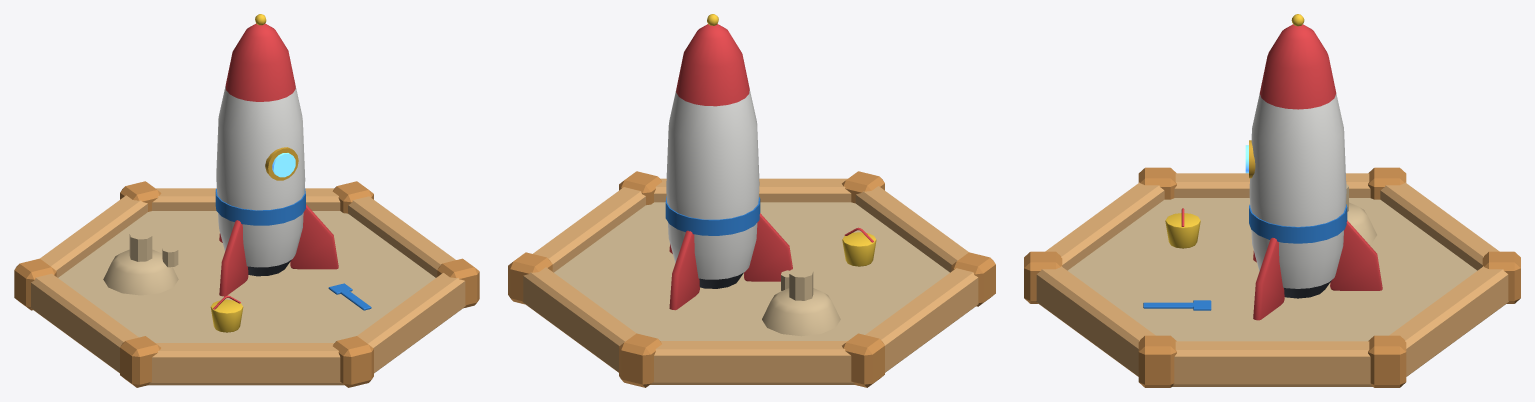
File: caixa_areia_foguete.glb
3 renders of one model, left to right at view 1: azimuth 30°, elevation 25°; view 2: azimuth 150°, elevation 25°; view 3: azimuth 270°, elevation 25°, orthographic. The views are drawn at different scales.
Visible parts, largest first — view 1: caixa_areia_foguete, escotilha; view 2: caixa_areia_foguete; view 3: caixa_areia_foguete.
Boxes of the visible parts, x1=… form: caixa_areia_foguete: x1=14, y1=14, x2=479, y2=387; escotilha: x1=272, y1=153, x2=295, y2=177; caixa_areia_foguete: x1=508, y1=14, x2=995, y2=387; caixa_areia_foguete: x1=1024, y1=14, x2=1520, y2=387.
Size of the model in its own units: 3.41 by 2.57 by 3.89.
4 materials, 1 textured.
